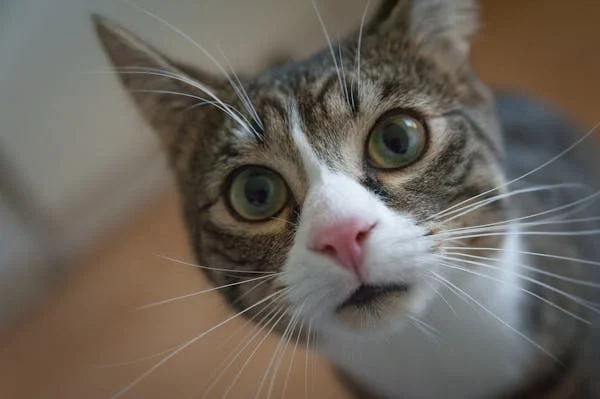Cat: (90, 1, 600, 399)
